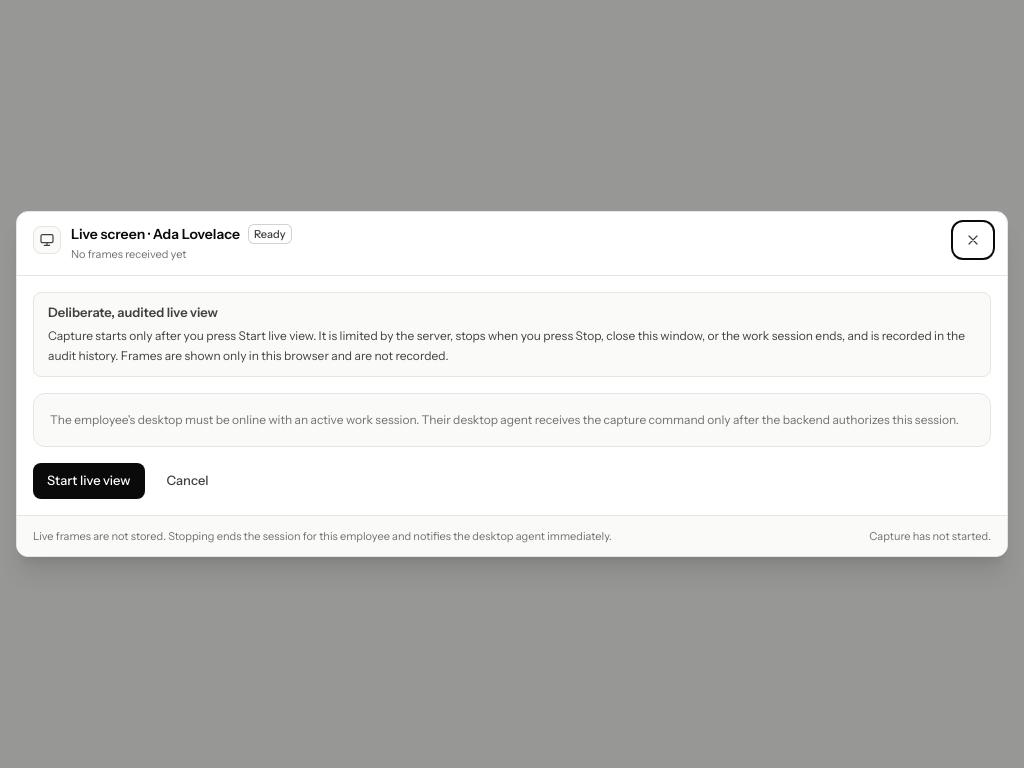
LiveScreenViewer › ends the view when the server reports the session ended
Click the button "Start live view" at point(89, 481), box x1=33 y1=463 x2=144 y2=499
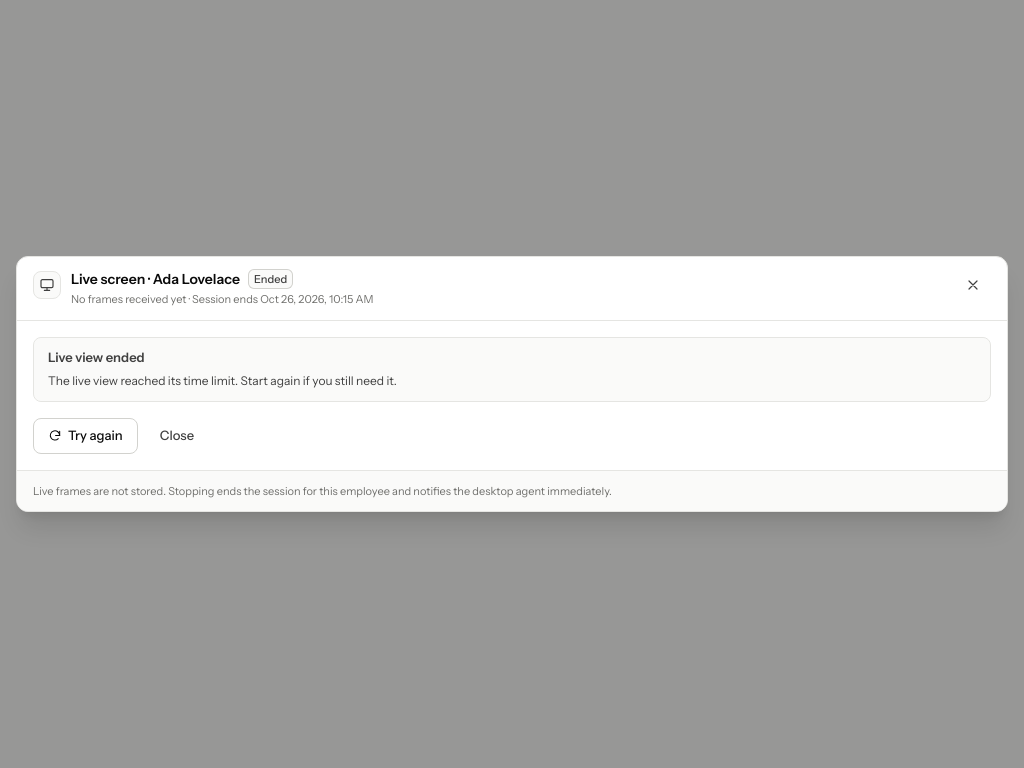
Now the text "The live view reached its time limit. Start again if you still need it." is shown, box x1=48 y1=373 x2=397 y2=388
